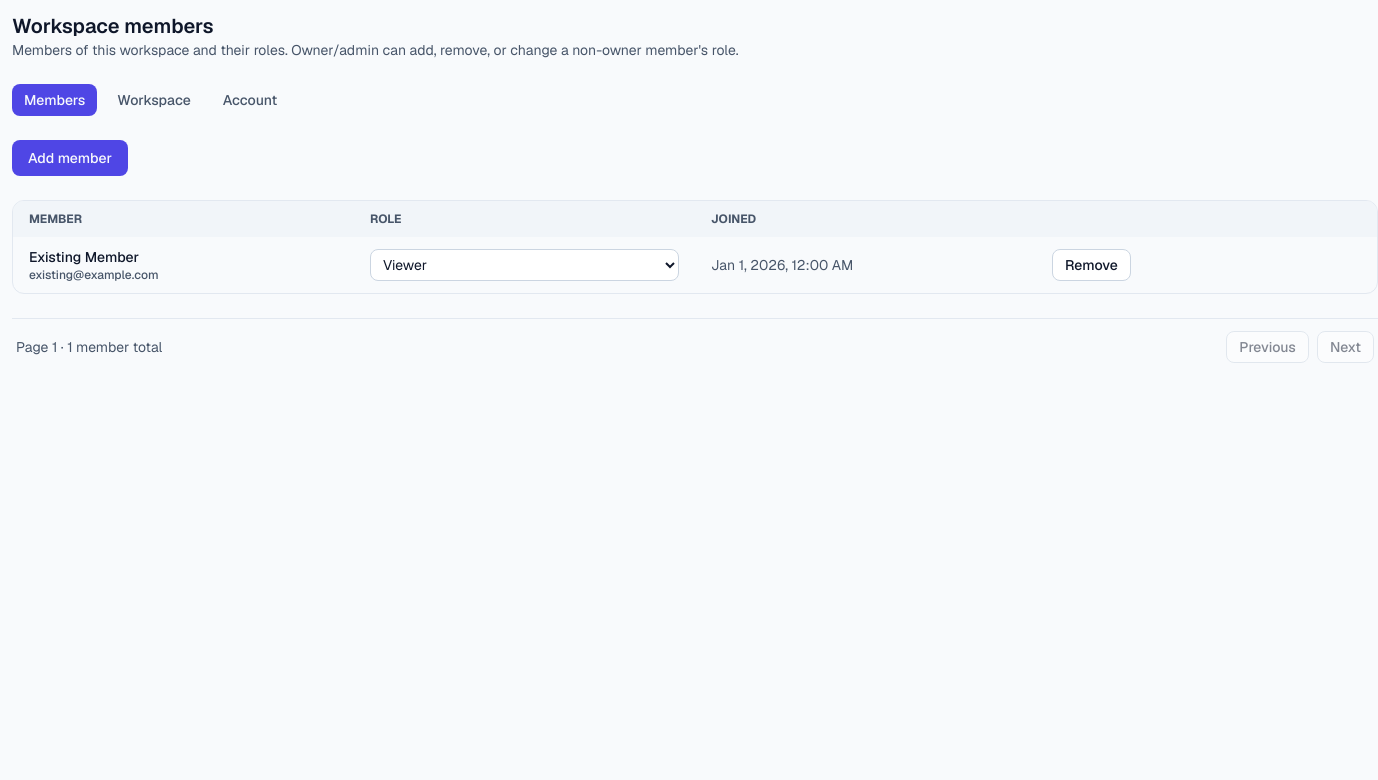
Test: MembersListPage › adding an already-active member shows the real conflict error
Expected: the text "Existing Member" is shown, [29, 248, 139, 266]
Click the button "Add member".
click(70, 158)  # box [12, 140, 128, 176]
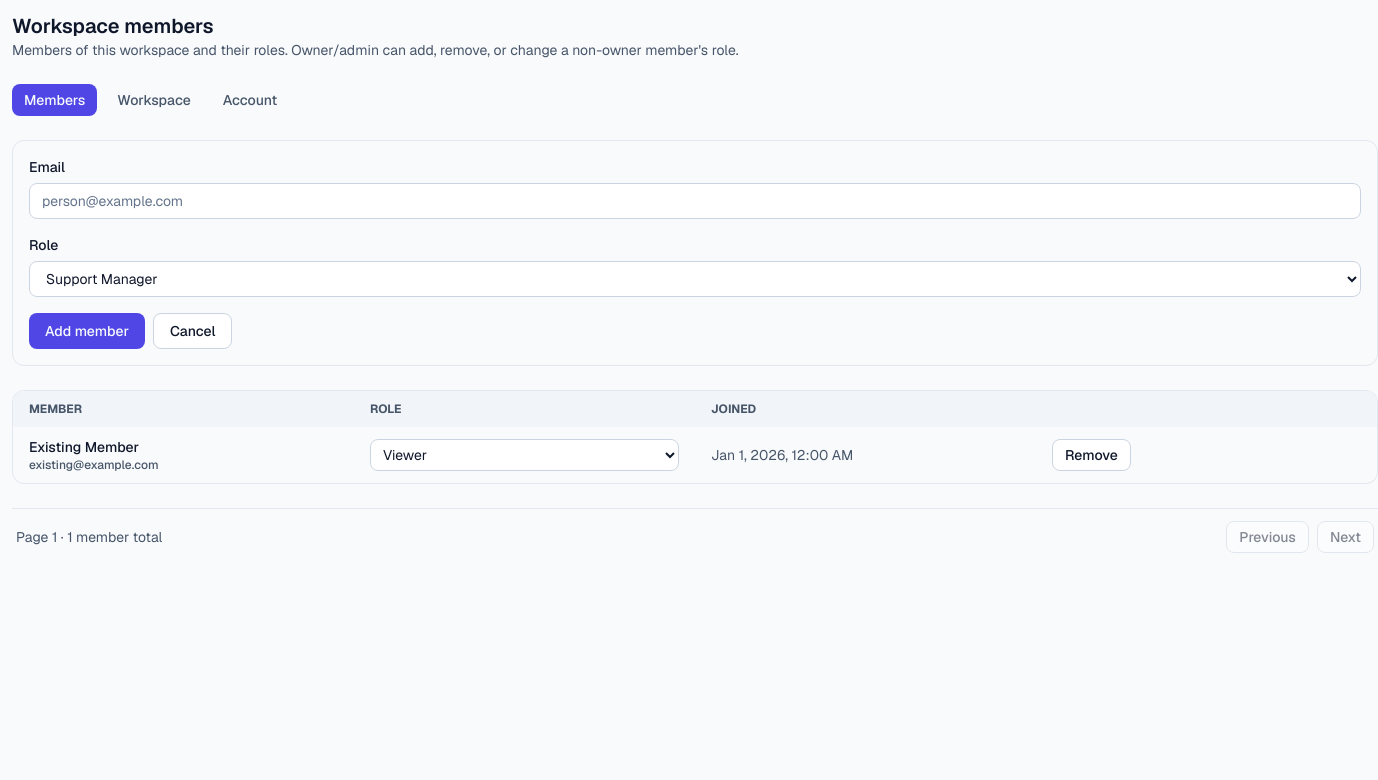
Type "existing@example.com" into the field labelled "Email".
click(695, 201); type("existing@example.com")  # box [29, 183, 1361, 219]
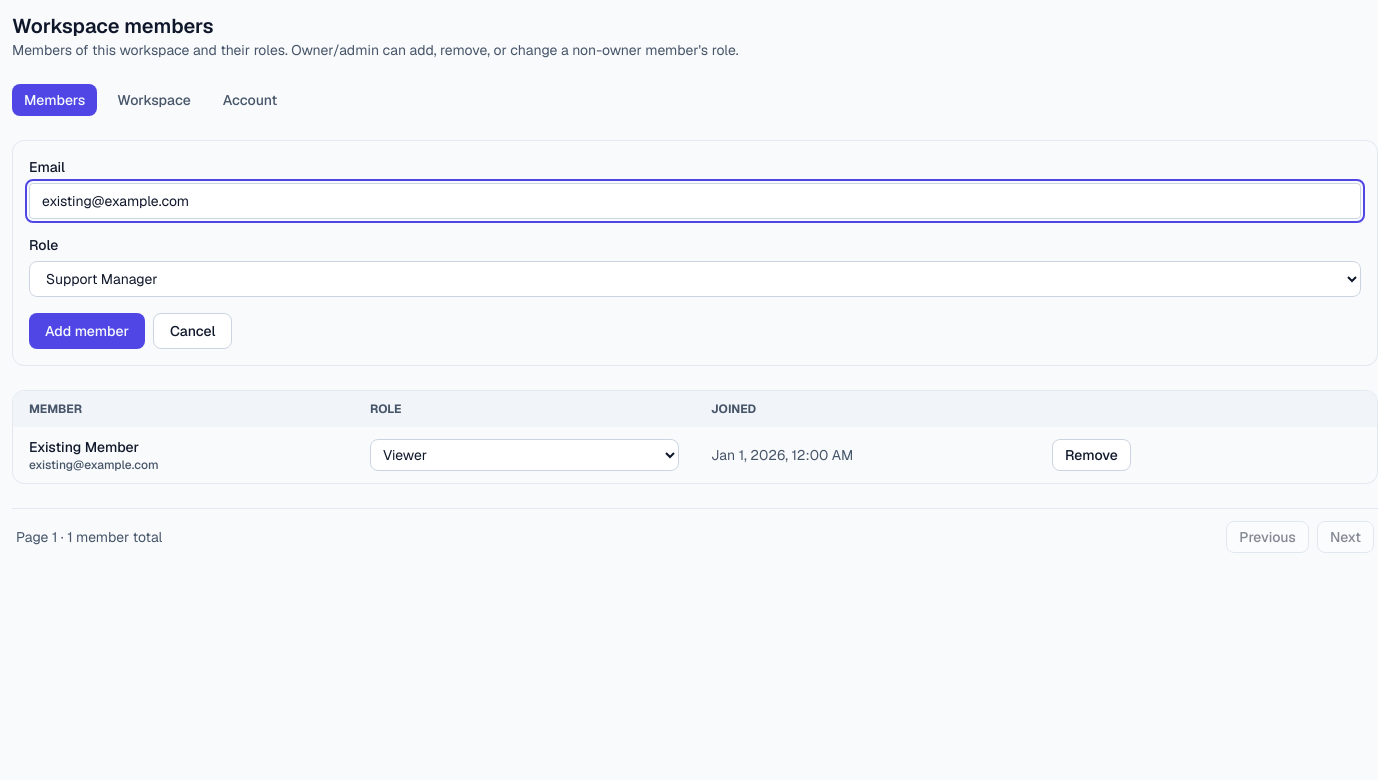
Click the button "Add member".
click(87, 331)  # box [29, 313, 145, 349]
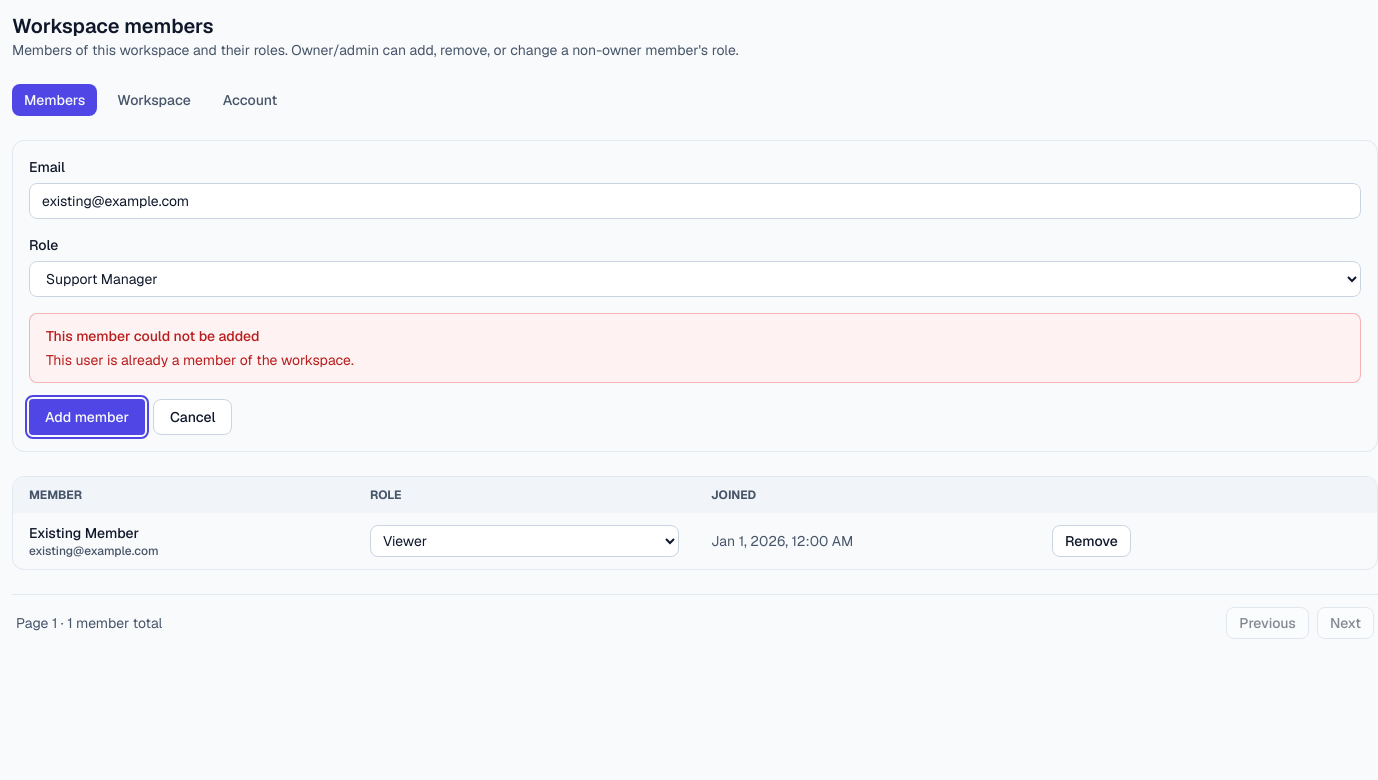
Result: the text "This user is already a member of the workspace." is shown at [46, 351, 354, 369]
